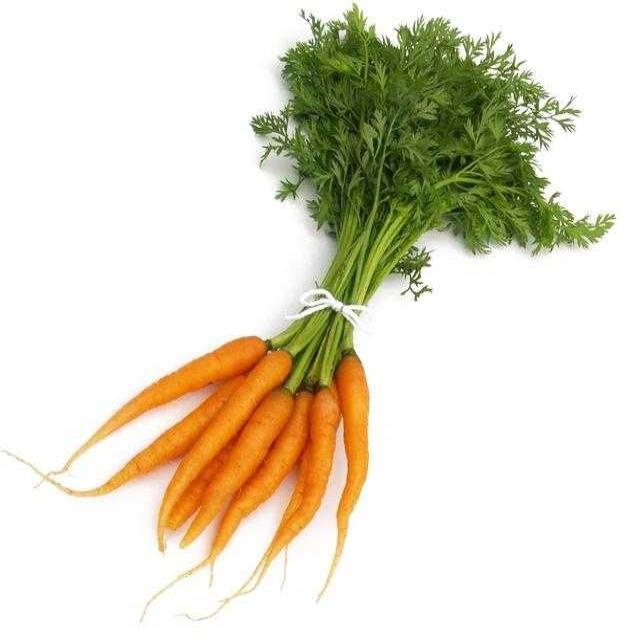carrots: (139, 320, 411, 584)
